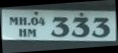character: (50, 16, 69, 37), (91, 16, 110, 37), (71, 16, 89, 37), (8, 16, 17, 25), (18, 27, 26, 37), (18, 16, 26, 25), (37, 16, 45, 25), (27, 28, 35, 37), (30, 16, 37, 25)
